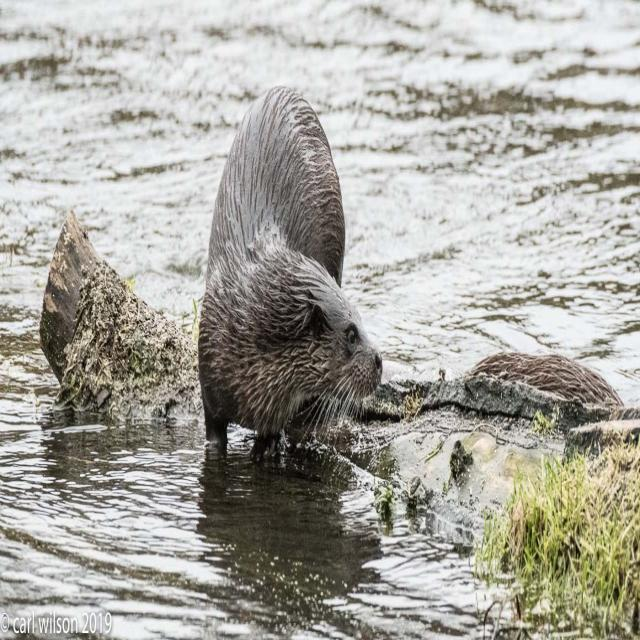otter: (200, 87, 383, 452)
